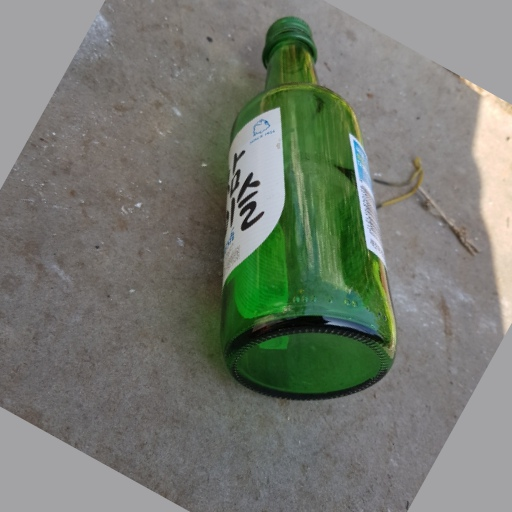Glass_0: (217, 17, 398, 404)
